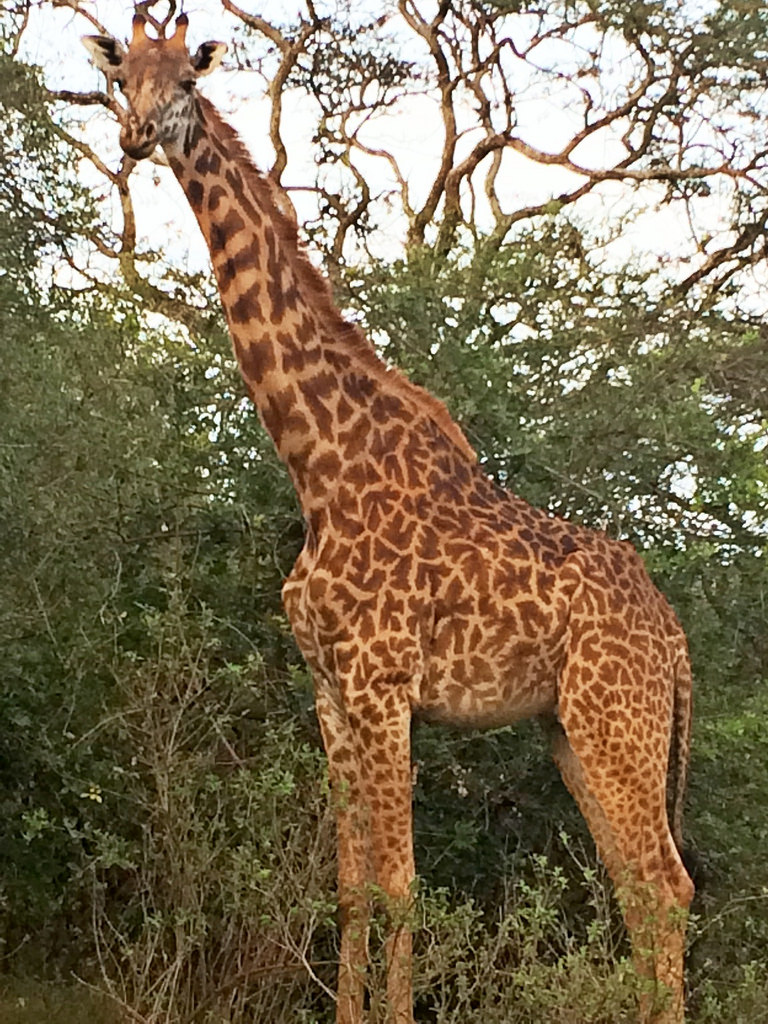giraffe: (62, 17, 722, 943)
